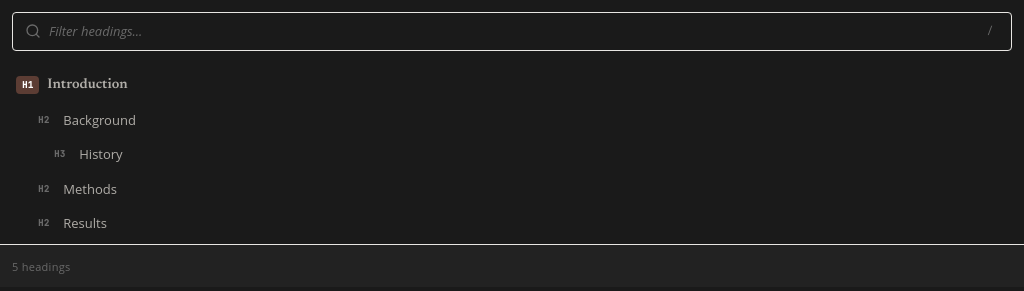
Test: DocumentOutline › shows no results message when filter matches nothing
This screenshot has width=1024, height=291.
Type "xyz123" into the field with test id "outline-filter" at [511, 31], box [49,21,973,42]
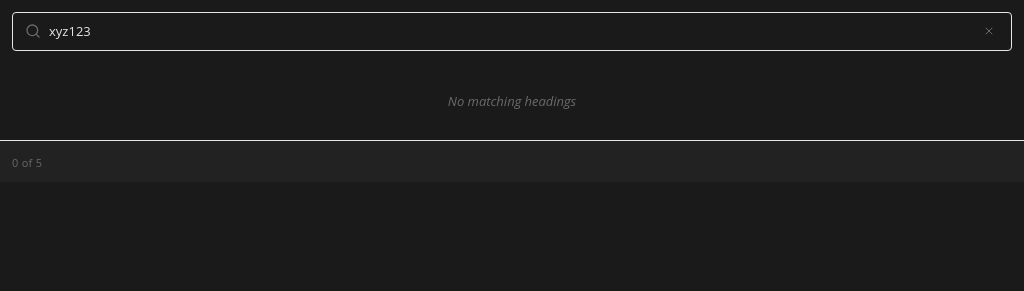
Expected: the text "No matching headings" is shown, [448,92,576,110]
Expected: the text "0 of 5" is shown, [12,155,42,170]
